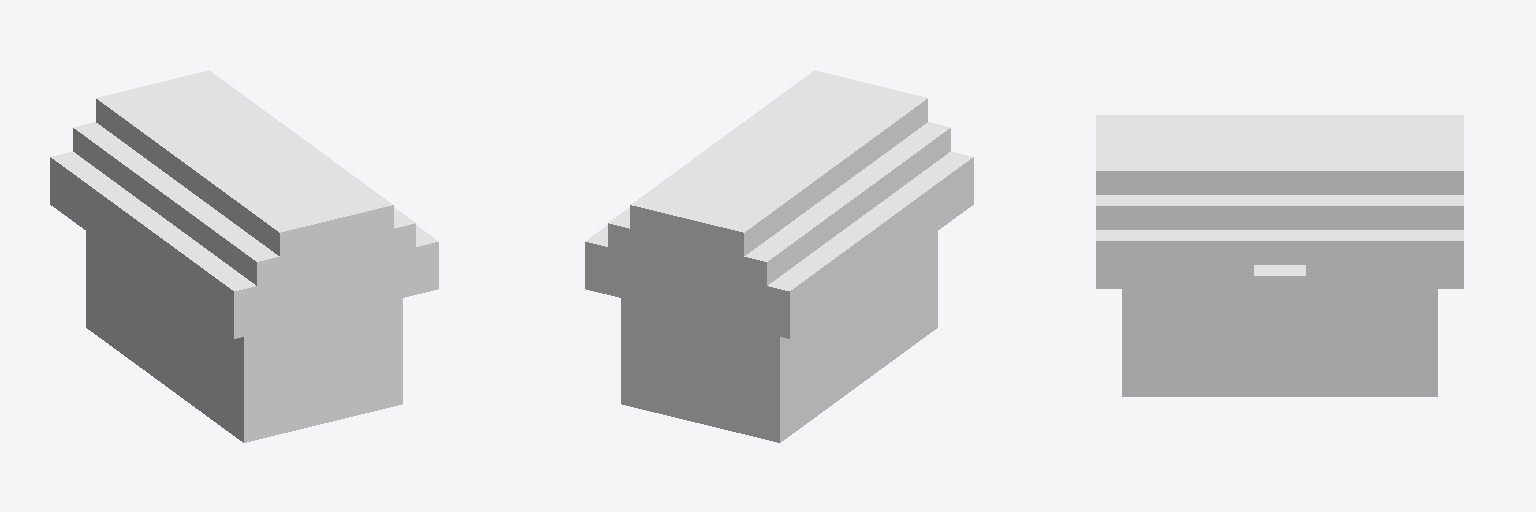
The model's file is id-beach-treasurechest.obj.
The picture shows the model from 3 angles: view 1: azimuth 30°, elevation 25°; view 2: azimuth 150°, elevation 25°; view 3: azimuth 270°, elevation 25°; orthographic projection.
Size of the model in its own units: 10 by 9 by 14.